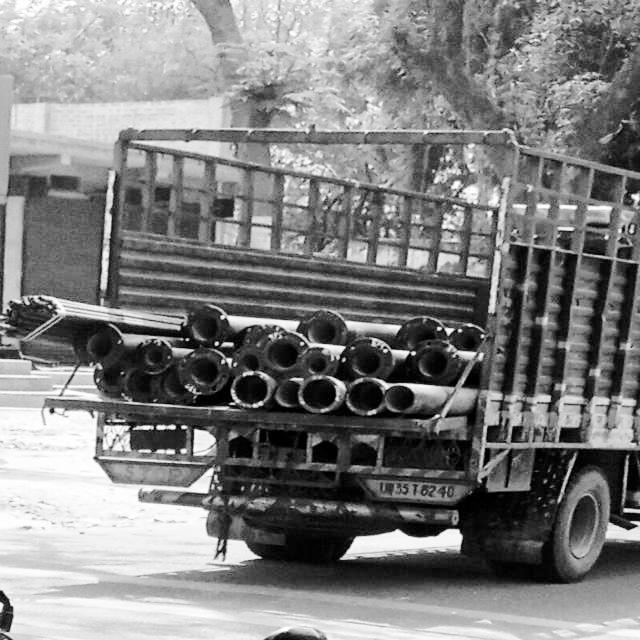HCV: (103, 126, 640, 567)
